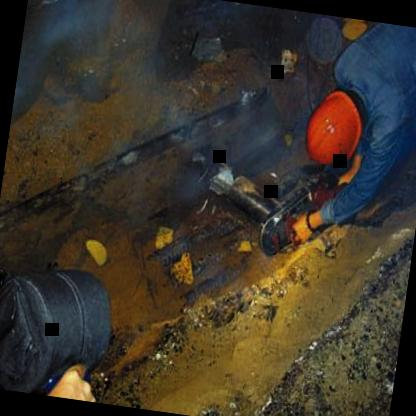helmet: (298, 81, 370, 182)
